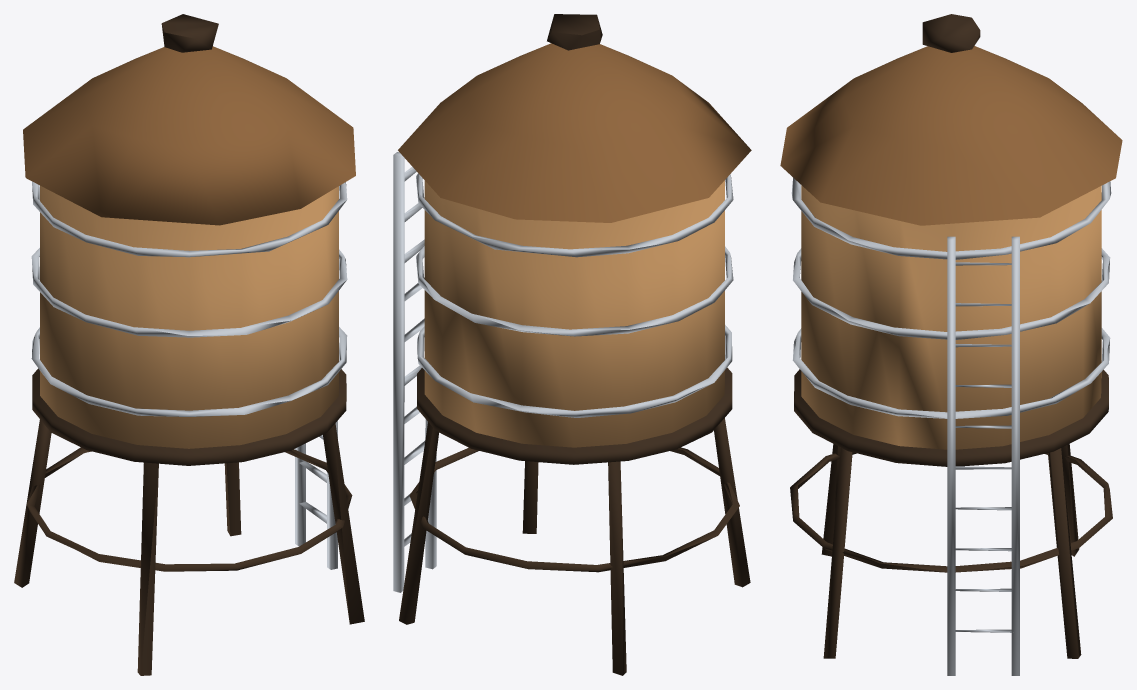
File: rooftop_water_tank.glb
3 renders of one model, left to right at view 1: azimuth 30°, elevation 25°; view 2: azimuth 150°, elevation 25°; view 3: azimuth 270°, elevation 25°, orthographic.
Visible parts, largest first — view 1: rooftop_water_tank; view 2: rooftop_water_tank; view 3: rooftop_water_tank.
Boxes of the visible parts, left/top/right/bottom form: rooftop_water_tank: left=14, top=14, right=364, bottom=675; rooftop_water_tank: left=393, top=14, right=751, bottom=675; rooftop_water_tank: left=780, top=14, right=1122, bottom=675.
Size of the model in its own units: 2.14 by 3.98 by 2.13.
